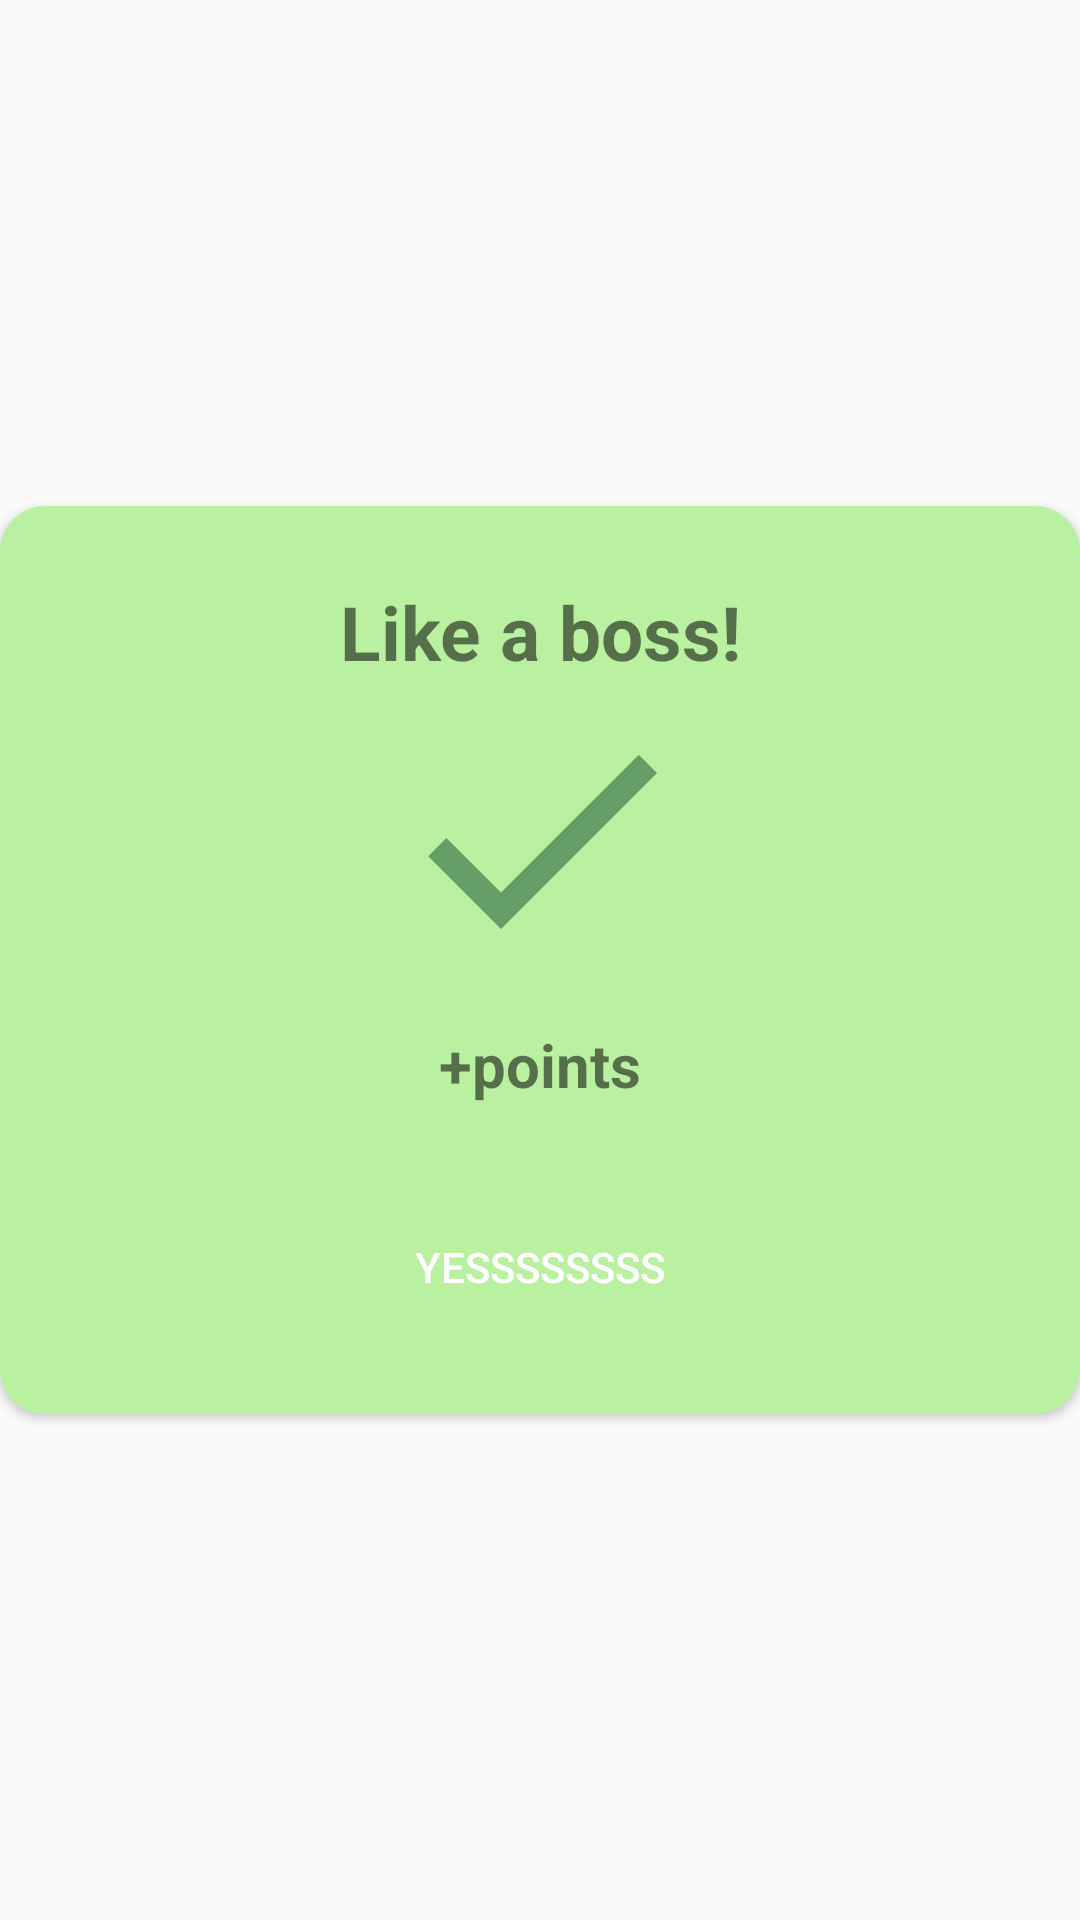

Named icons in this screenshot (1080x1920) and their centers, [x,y]:
done: [542,842]
